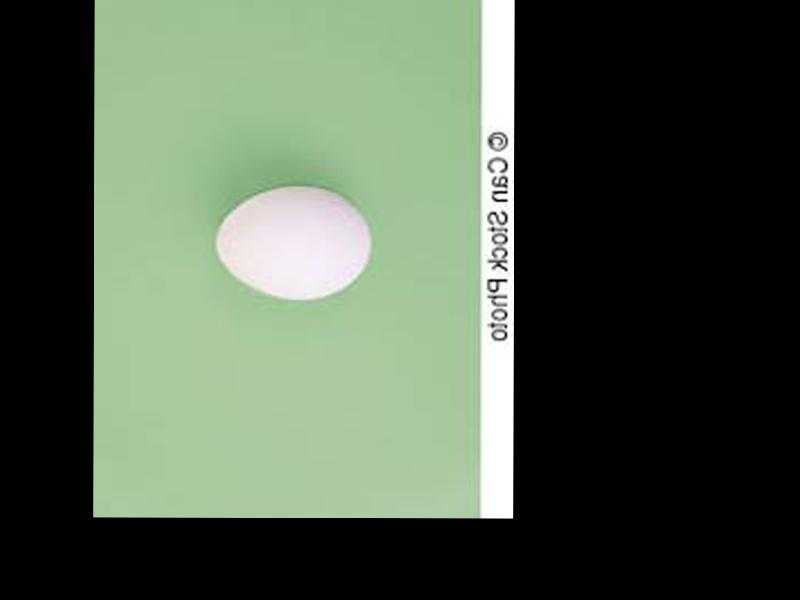Eggs: (216, 186, 370, 298)
